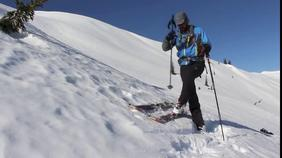down: (134, 102, 160, 114)
